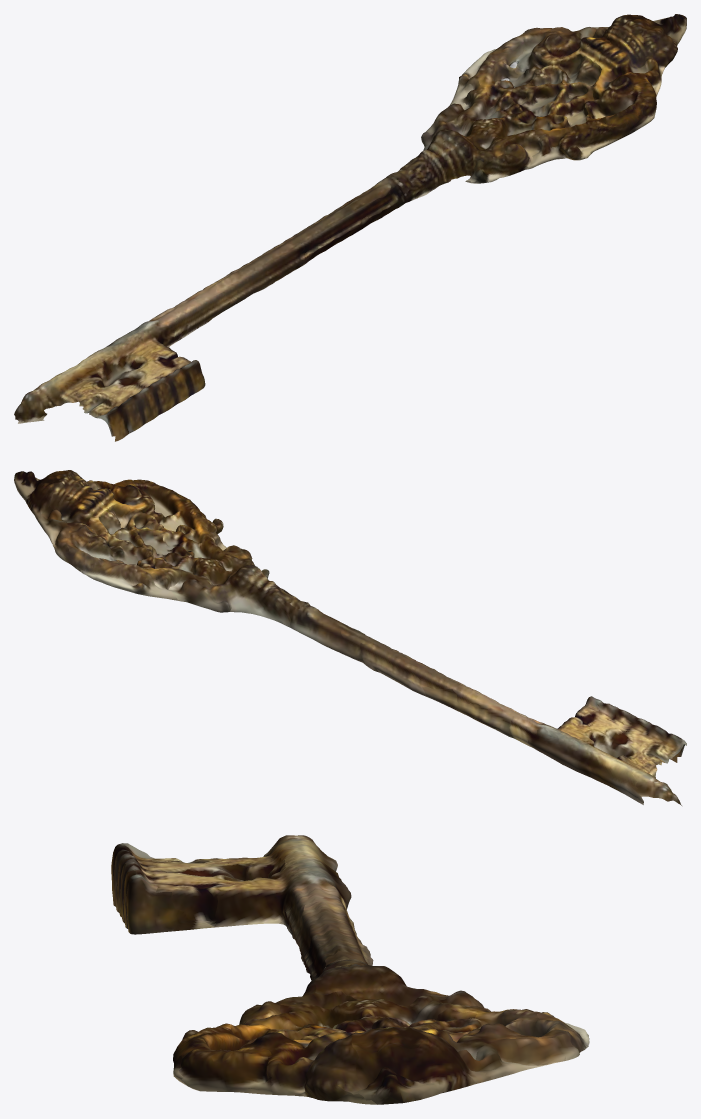
Rendered from versailleskey.obj.
3 views of the same model, one above another, from view 1: azimuth 30°, elevation 25°; view 2: azimuth 150°, elevation 25°; view 3: azimuth 270°, elevation 25° (orthographic). The views are drawn at different scales.
Parts seen in each view (by area): view 1: mmGroup0; view 2: mmGroup0; view 3: mmGroup0.
Boxes of the visible parts, bbox=[...] form: mmGroup0: bbox=[14, 14, 686, 441]; mmGroup0: bbox=[14, 470, 686, 806]; mmGroup0: bbox=[111, 835, 589, 1104].
Bounding box in the file's own units: 0.3126 × 0.0955 × 0.101.
